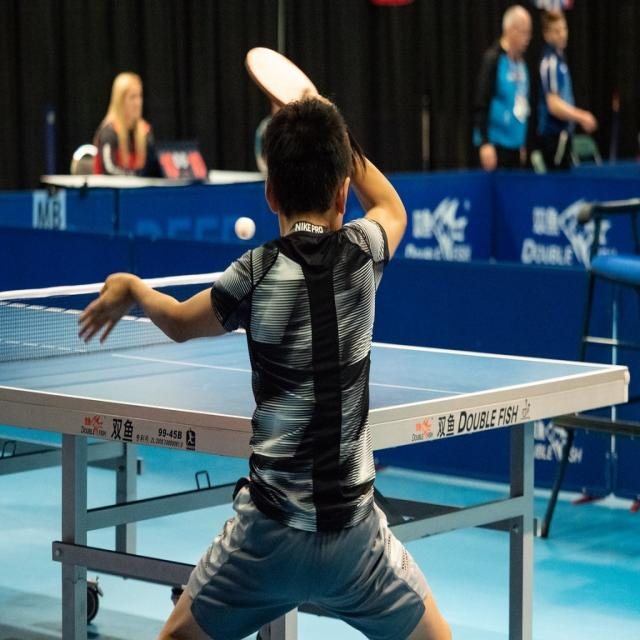TT Net: (0, 268, 252, 368)
TT Racket: (227, 28, 339, 140)
TT Table: (0, 280, 621, 472)
